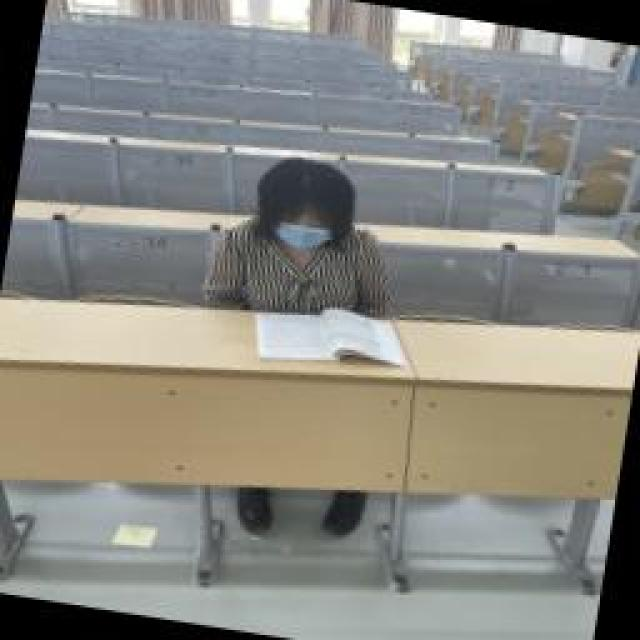study: (198, 150, 418, 365)
